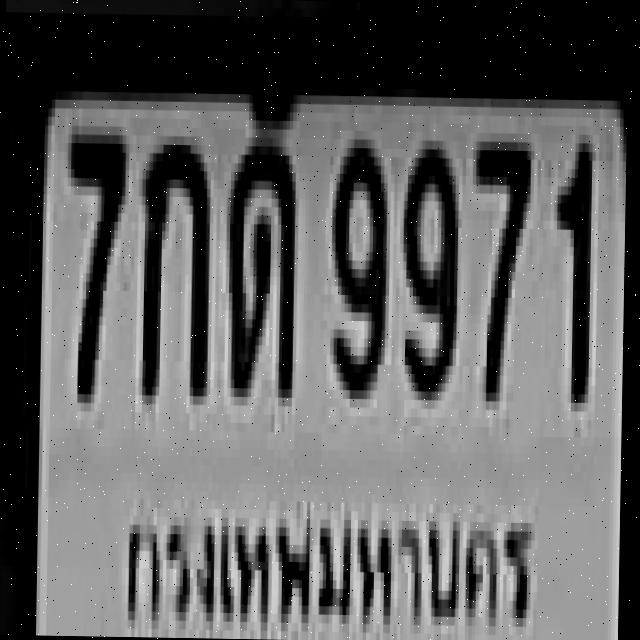1: (550, 134, 589, 394)
10GorGai: (138, 131, 208, 392)
29DorDek: (224, 137, 292, 389)
7: (468, 132, 528, 392), (64, 126, 122, 394)
9: (397, 132, 456, 392), (328, 130, 384, 390)
Bangkok: (116, 479, 540, 640)
